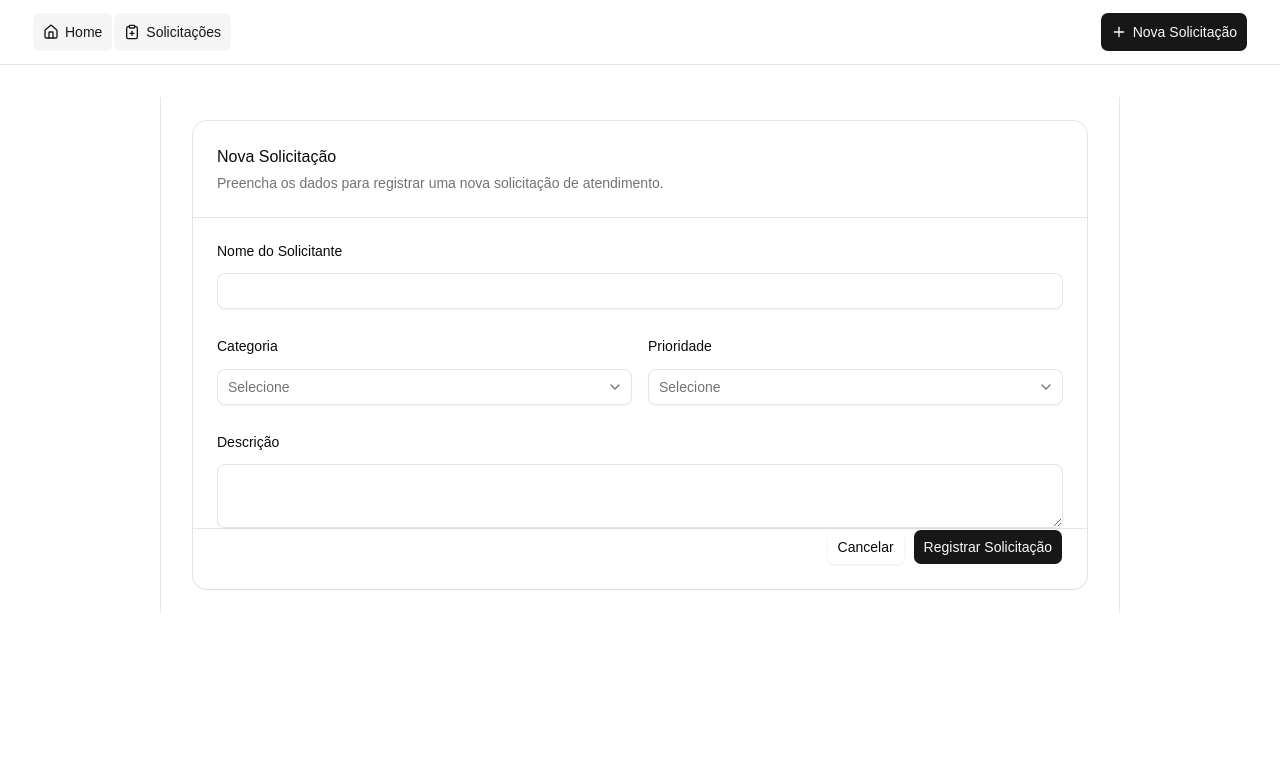
Test: Register a solicitation › requires a justification only when priority is URGENTE
Click the dropdown labelled "Selecione ▼" below "Prioridade". click: (690, 387)
box: [648,369,1063,405]
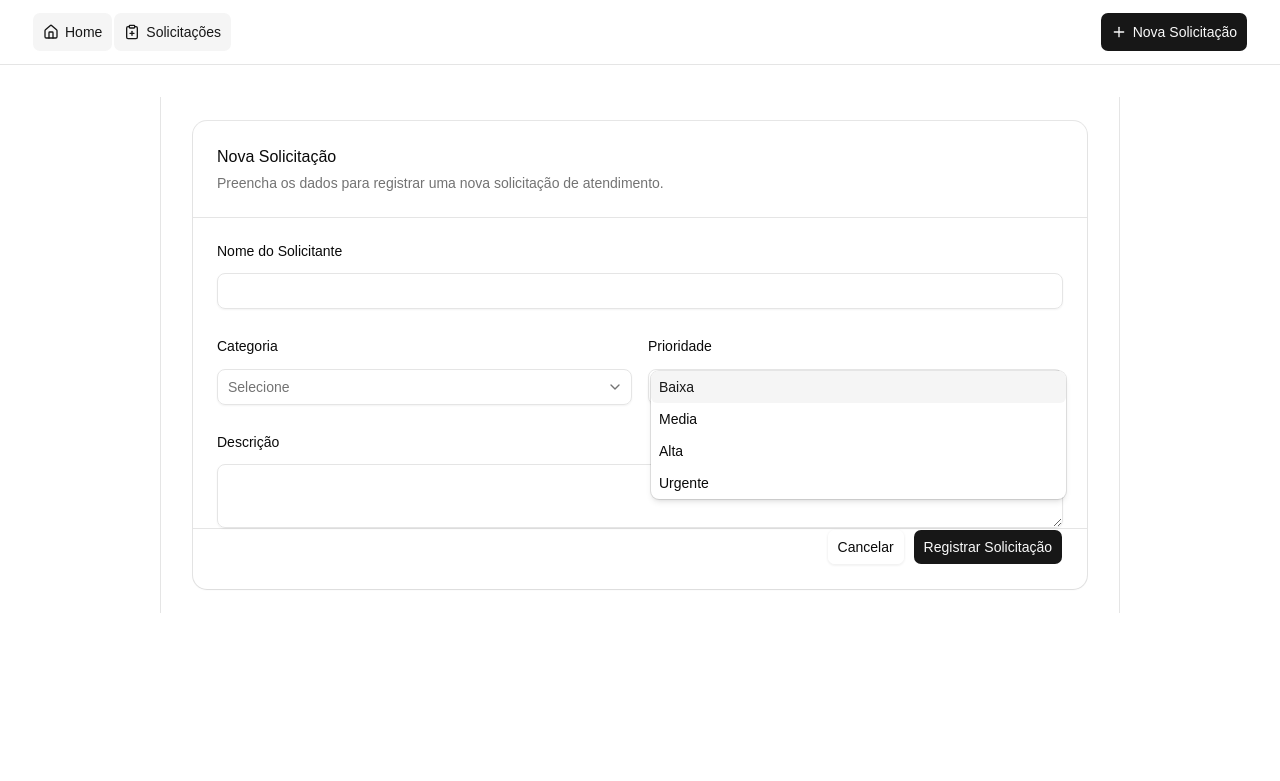
Click the option "Urgente". click: (684, 483)
box: [659,475,709,491]
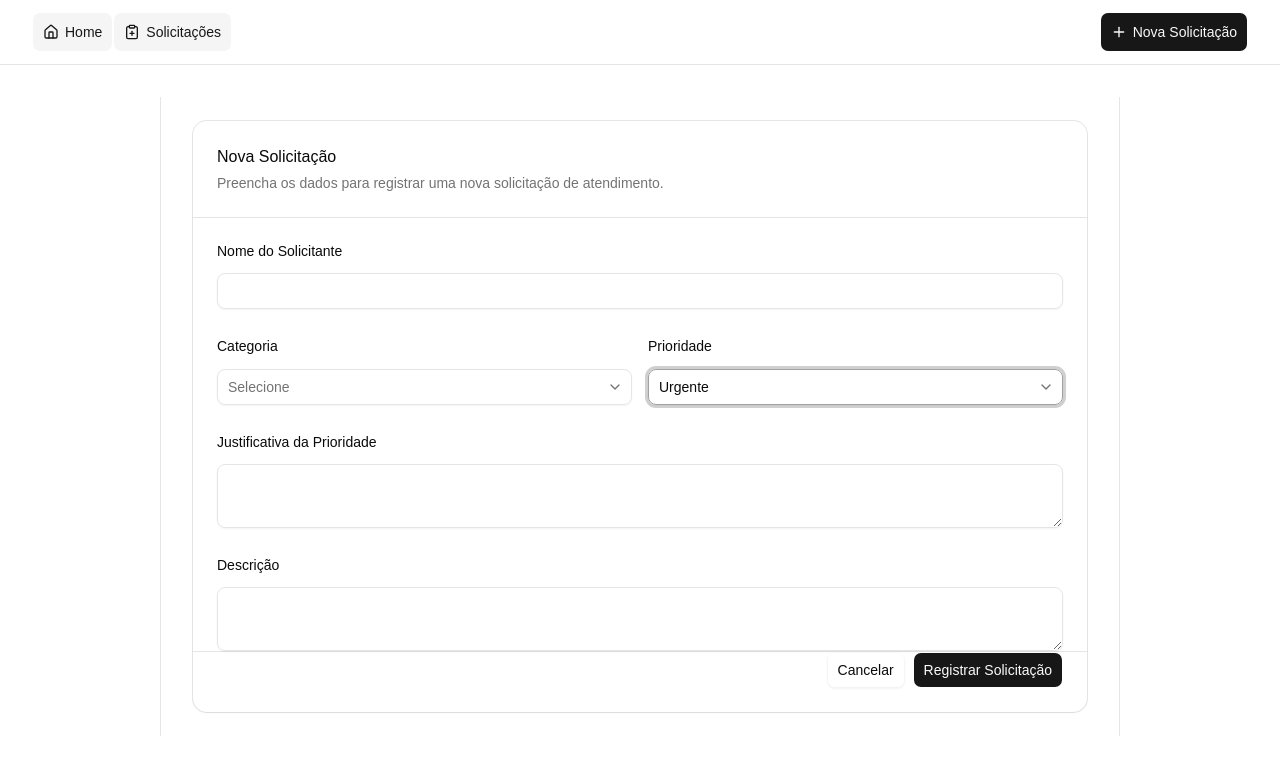
Click the button "Registrar Solicitação". click: (988, 670)
box: [913,652,1063,688]
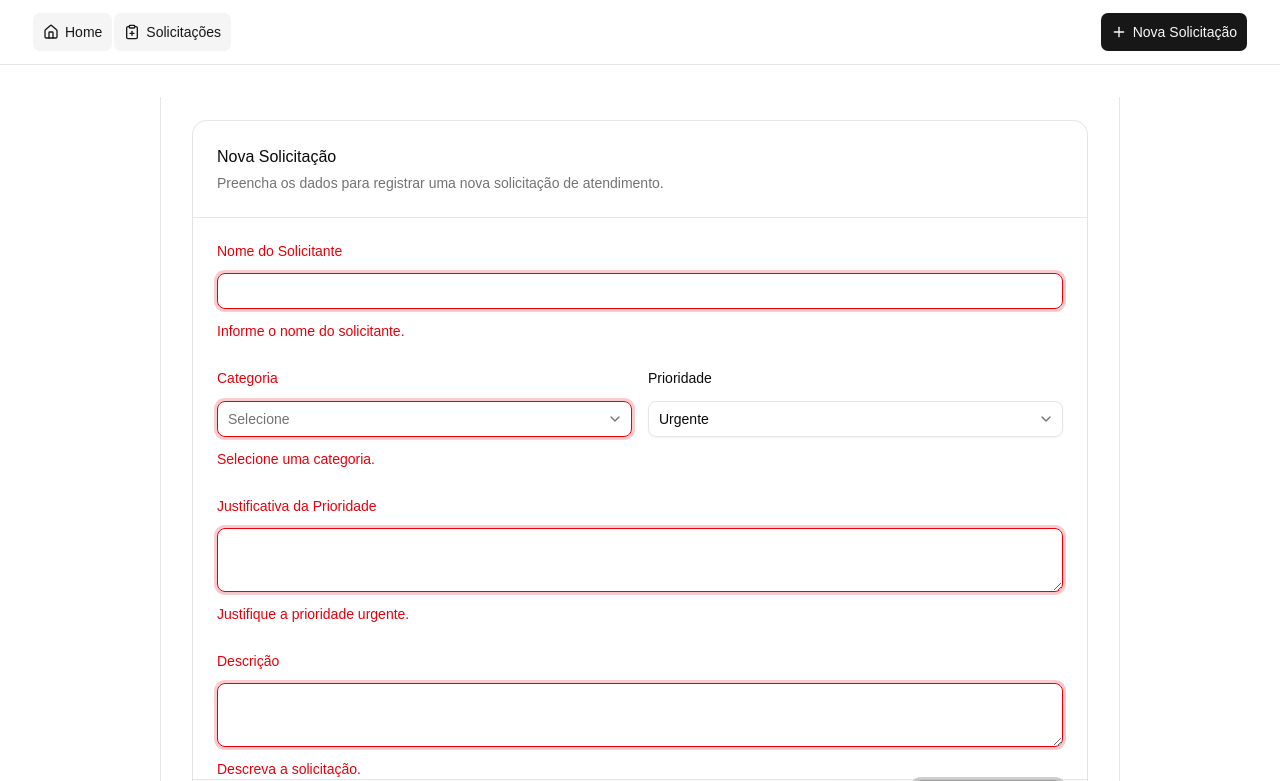
Expected: the text "Justifique a prioridade urgente." is shown, [217,606,409,622]
